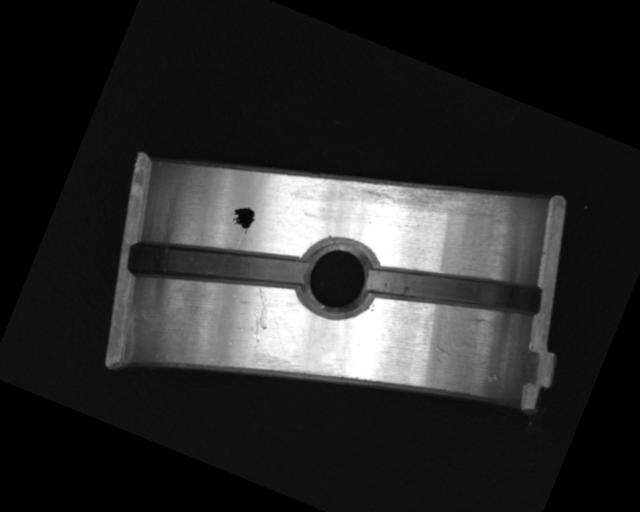blot: (226, 201, 259, 236)
bruise: (429, 341, 451, 356), (484, 370, 501, 385)
gap: (124, 198, 310, 332), (363, 226, 546, 353)
hole: (290, 227, 388, 327)
nick: (240, 286, 282, 344)
scratch: (339, 139, 504, 250)
